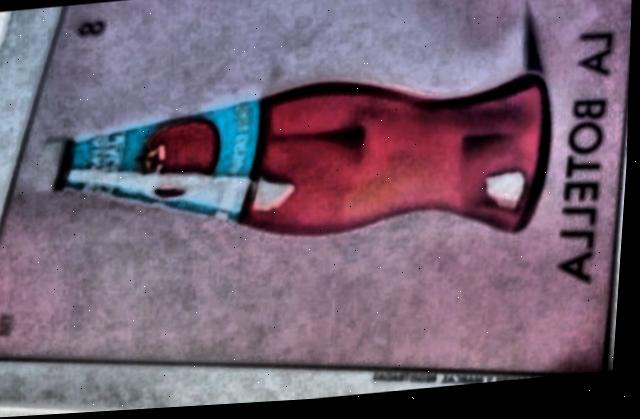La Botella: (0, 0, 631, 381)
